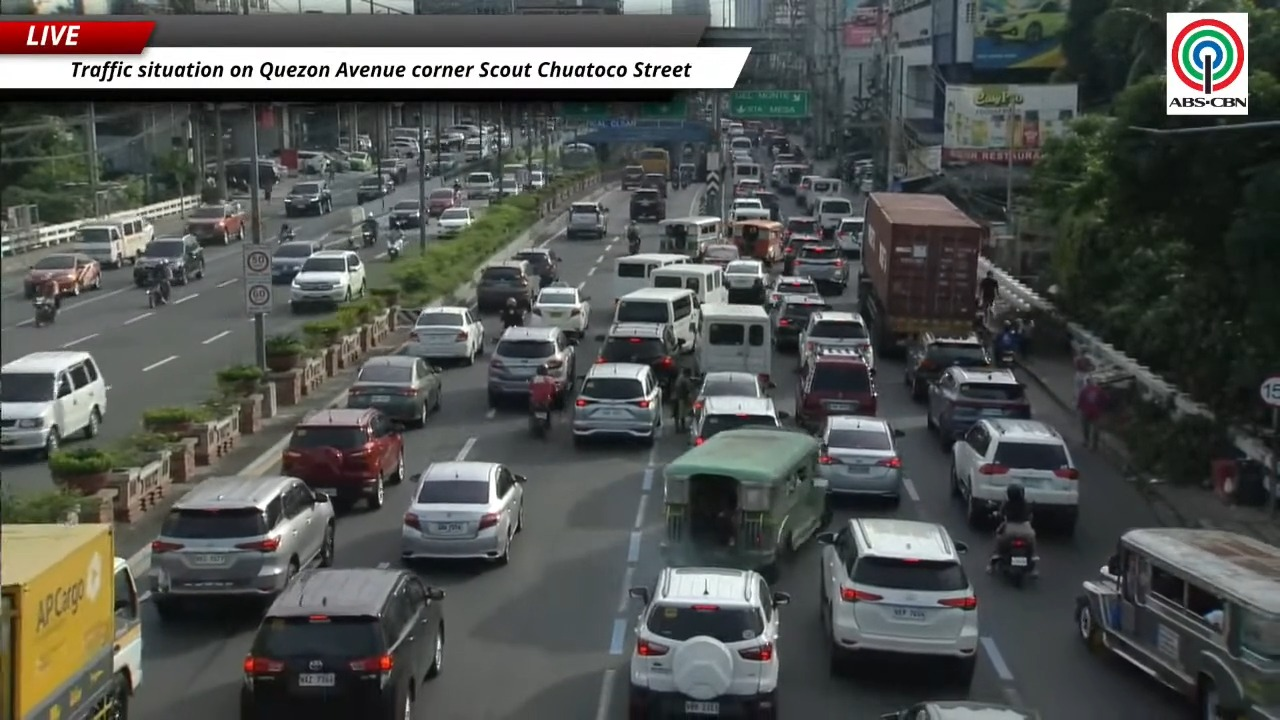bus: (637, 147, 669, 176)
car: (239, 568, 444, 719), (817, 518, 979, 689), (150, 475, 335, 619), (628, 567, 790, 717), (950, 419, 1079, 534), (400, 461, 525, 563), (282, 408, 404, 509), (0, 350, 107, 457), (927, 366, 1030, 448), (818, 415, 902, 504), (571, 362, 662, 443), (486, 327, 575, 406), (795, 347, 877, 431), (347, 354, 441, 426), (904, 332, 991, 400), (595, 323, 682, 387), (689, 396, 787, 445), (290, 250, 366, 312), (405, 306, 485, 363), (799, 310, 873, 367), (980, 0, 1067, 44), (133, 234, 205, 286), (23, 253, 101, 298), (773, 293, 830, 350), (531, 283, 589, 337), (881, 700, 1041, 719), (791, 242, 849, 294), (476, 261, 536, 311), (693, 371, 767, 411), (184, 201, 247, 245), (271, 240, 323, 283), (723, 259, 768, 303), (783, 234, 828, 274), (285, 180, 332, 216), (512, 247, 560, 282), (566, 201, 607, 239), (768, 275, 818, 305), (629, 187, 665, 221), (835, 217, 864, 258), (356, 173, 393, 203), (437, 206, 474, 236), (427, 187, 461, 216), (388, 200, 423, 228), (297, 150, 333, 175), (703, 242, 739, 266), (463, 172, 495, 199), (784, 216, 819, 240), (795, 174, 821, 206), (754, 190, 780, 220), (379, 159, 407, 185), (642, 173, 669, 198), (731, 195, 764, 213), (733, 178, 762, 198), (621, 165, 644, 190), (494, 177, 522, 197), (346, 151, 371, 170), (529, 170, 545, 191)
motorcycle: (995, 537, 1037, 586), (993, 330, 1019, 366), (33, 297, 57, 327), (529, 406, 551, 438), (147, 282, 169, 308), (387, 237, 402, 260), (361, 231, 376, 247), (278, 229, 295, 243), (628, 235, 640, 254), (347, 235, 356, 249)
truck: (0, 524, 142, 719), (858, 193, 985, 356)
